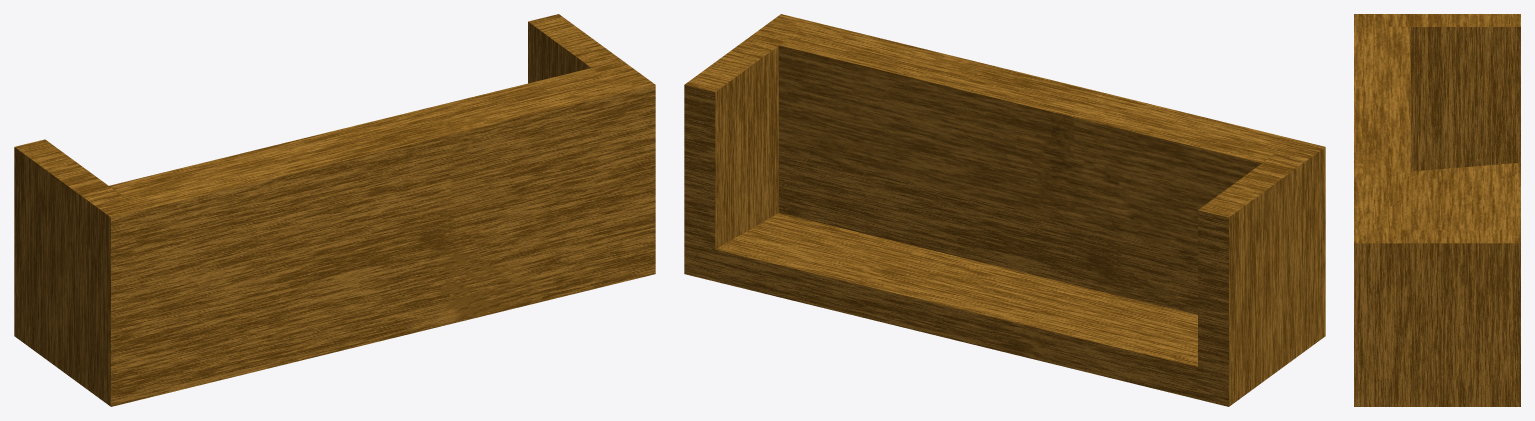
Rendered from ShelfWood.FBX.
The picture shows the model from 3 angles, left to right: view 1: azimuth 30°, elevation 25°; view 2: azimuth 150°, elevation 25°; view 3: azimuth 270°, elevation 25°; orthographic projection. The views are drawn at different scales.
Parts seen in each view (by area): view 1: Box001; view 2: Box001; view 3: Box001.
Part boxes in pixels (<box>): Box001: <box>14,14,655,406</box>; Box001: <box>684,14,1325,406</box>; Box001: <box>1354,14,1520,406</box>.
Bounding box in the file's own units: 98.31 × 32.71 × 30.23.
Materials: 1 (1 with a texture image).
